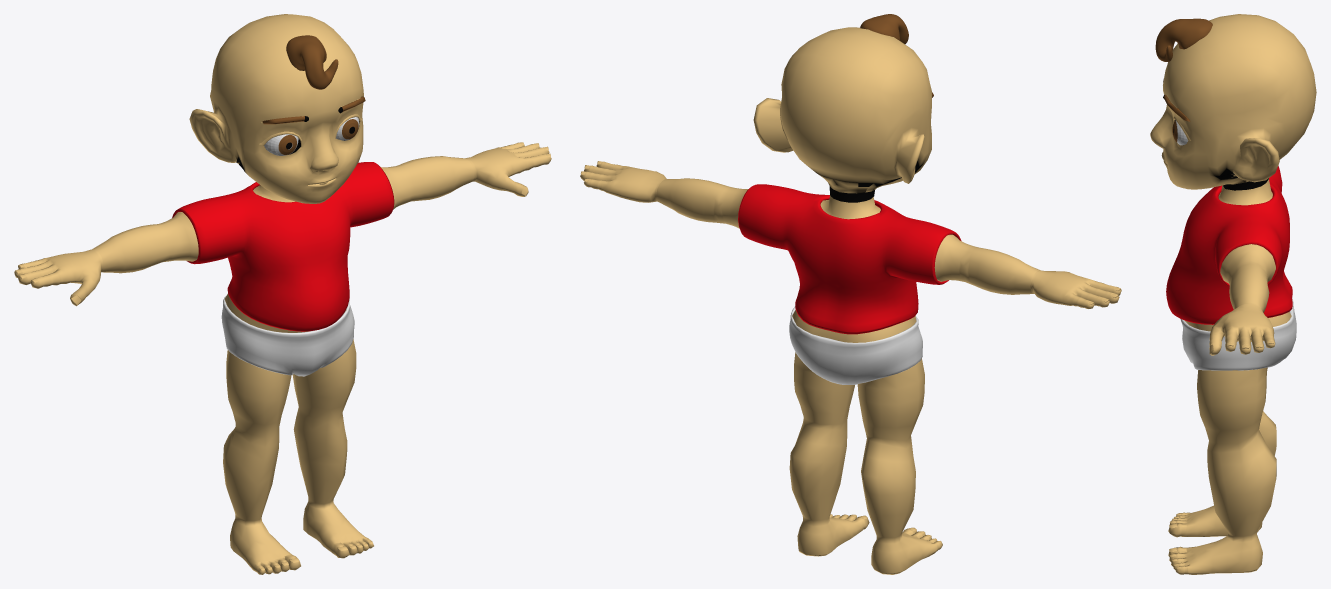
File: Diliian.fbx
3 renders of one model, left to right at view 1: azimuth 30°, elevation 25°; view 2: azimuth 150°, elevation 25°; view 3: azimuth 270°, elevation 25°, orthographic.
Visible parts, largest first — view 1: body, Head, SmallShirt, Dipper, hair; view 2: body, Head, SmallShirt, Dipper, hair; view 3: Head, body, SmallShirt, Dipper, hair.
Part boxes in pixels (box(x1,y1,x2,y2)): body: box(14, 142, 551, 574); Head: box(189, 14, 363, 203); SmallShirt: box(172, 162, 394, 331); Dipper: box(221, 295, 354, 376); hair: box(286, 35, 338, 89); body: box(580, 161, 1121, 574); Head: box(753, 27, 932, 202); SmallShirt: box(738, 184, 961, 334); Dipper: box(789, 306, 922, 384); hair: box(860, 14, 908, 44); Head: box(1150, 14, 1316, 190); body: box(1168, 179, 1291, 574); SmallShirt: box(1166, 166, 1292, 324); Dipper: box(1180, 298, 1296, 370); hair: box(1155, 18, 1212, 61).
Bounding box in the file's own units: 237 × 222 × 63.6.
